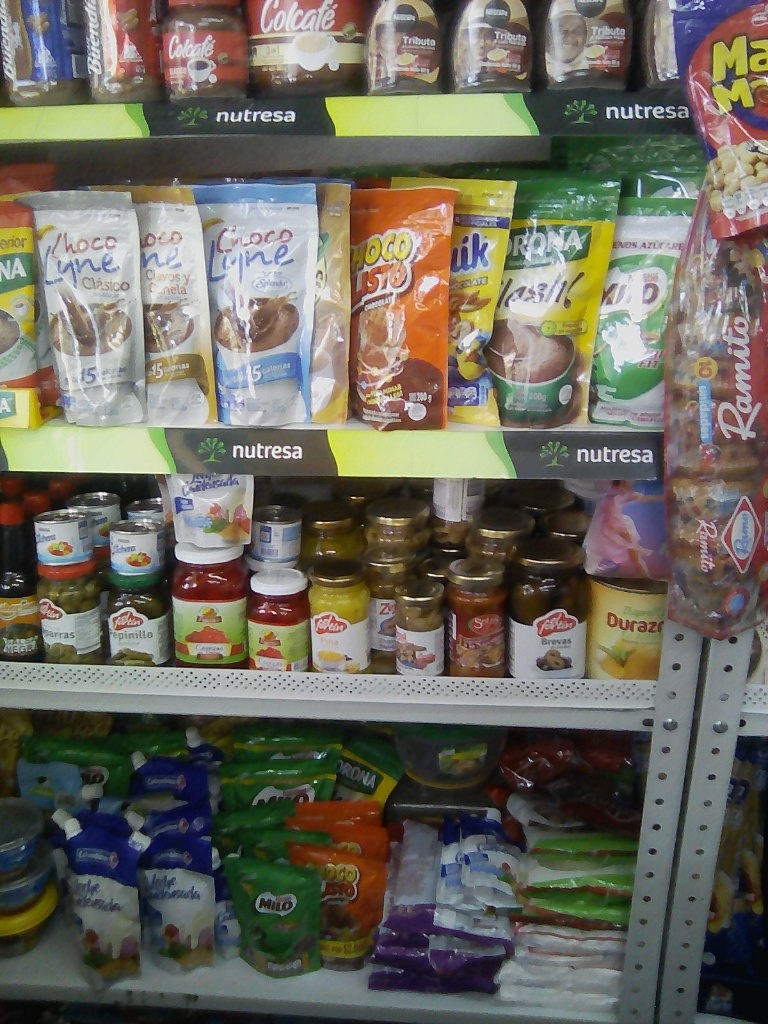COL0170203DYP10000: (220, 852, 328, 976)
COL0170205DYP20000: (593, 191, 697, 423)
